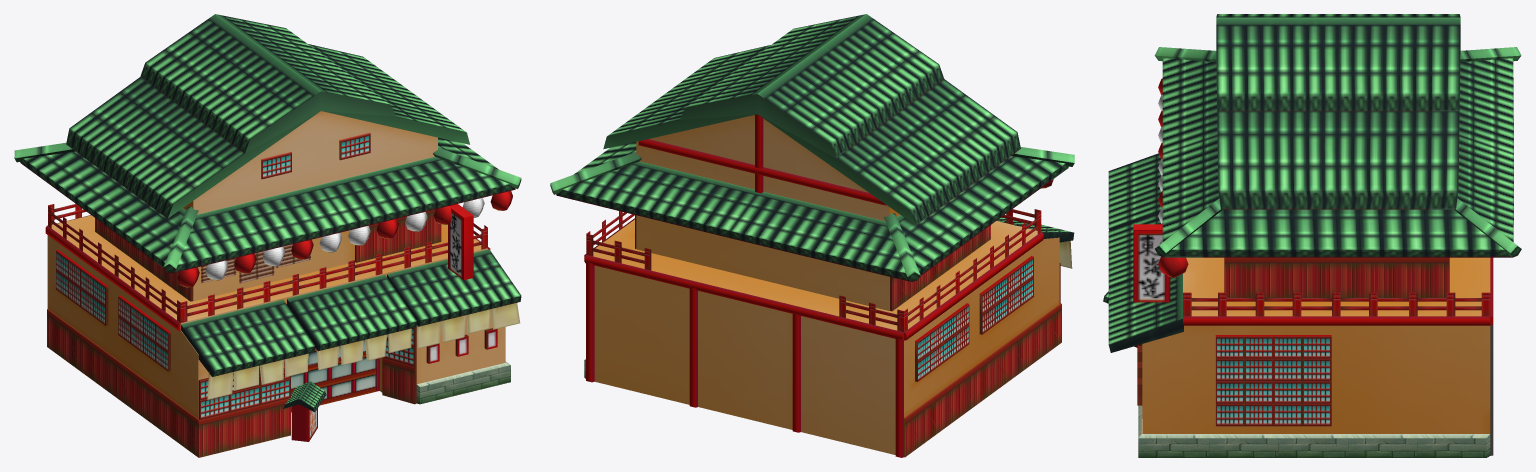
Rendered from house_05.FBX.
The picture shows the model from 3 angles, left to right: view 1: azimuth 30°, elevation 25°; view 2: azimuth 150°, elevation 25°; view 3: azimuth 270°, elevation 25°; orthographic projection. The views are drawn at different scales.
Parts seen in each view (by area): view 1: house_05; view 2: house_05; view 3: house_05.
Part boxes in pixels (x1,y1,x2,y2): house_05: (14,14,521,457); house_05: (550,14,1074,457); house_05: (1103,14,1521,457).
Size of the model in its own units: 173258 by 140589 by 151602.
